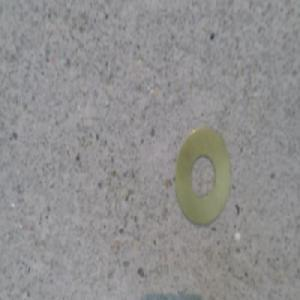Washer: (173, 123, 231, 226)
